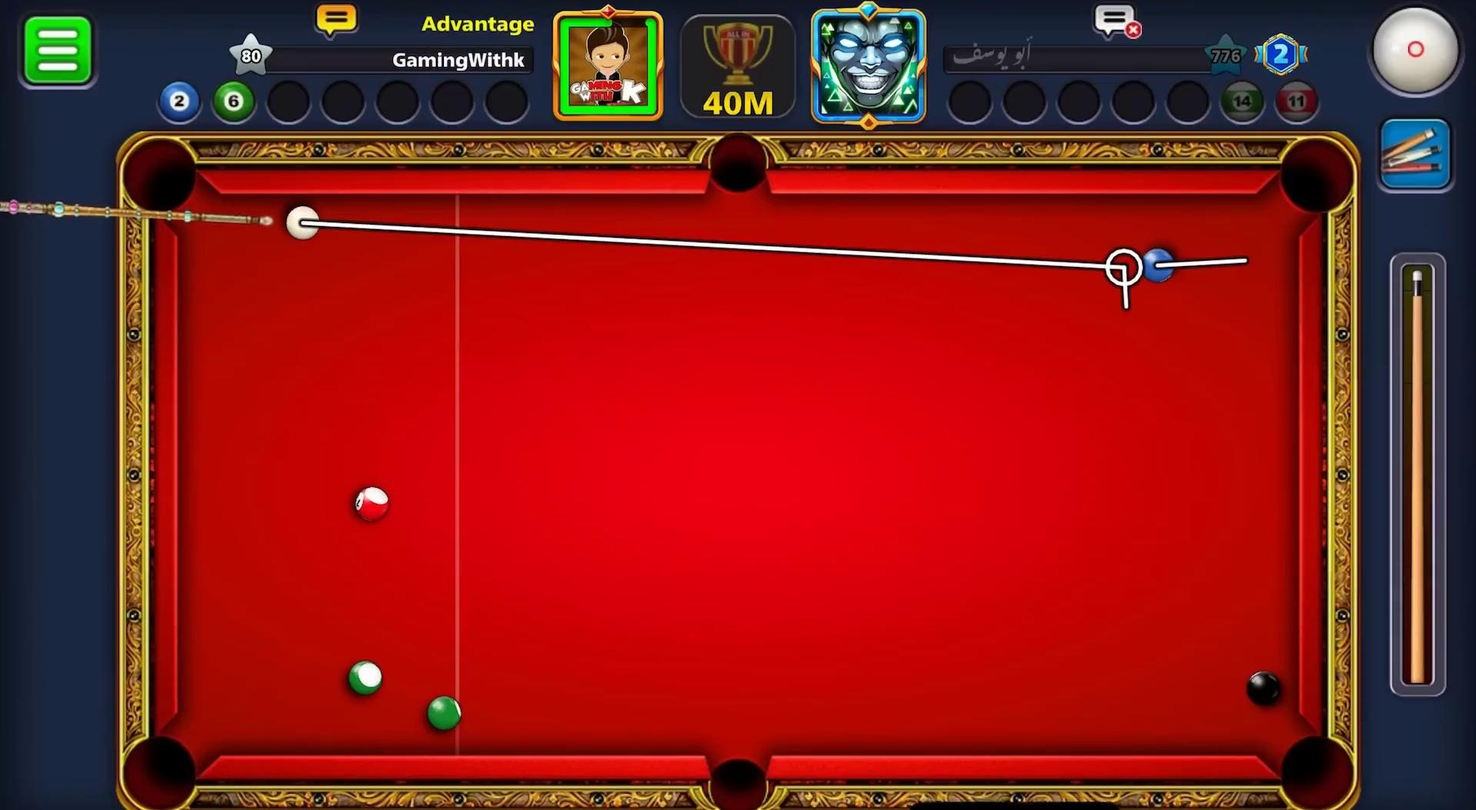Ball: (1239, 665, 1290, 709), (342, 655, 385, 698), (425, 690, 467, 734), (348, 485, 391, 527), (1139, 245, 1176, 283)
Force: (1391, 250, 1448, 698)
Guideline: (304, 212, 1258, 319)
Hole: (107, 718, 224, 809), (112, 121, 209, 230), (1260, 719, 1371, 809), (1274, 135, 1358, 217), (702, 752, 772, 809), (707, 132, 768, 193)
Play_Area: (175, 194, 1299, 753)
Spin: (1364, 3, 1467, 100)
White: (279, 202, 322, 245)
